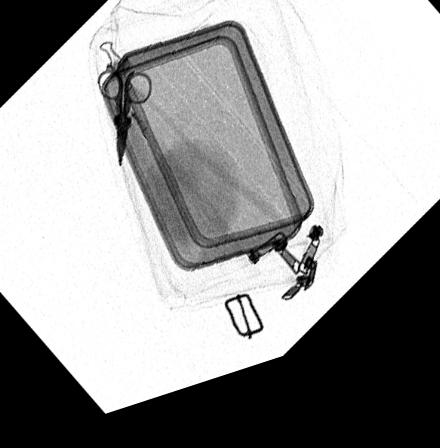Scissors: (94, 75, 152, 174)
